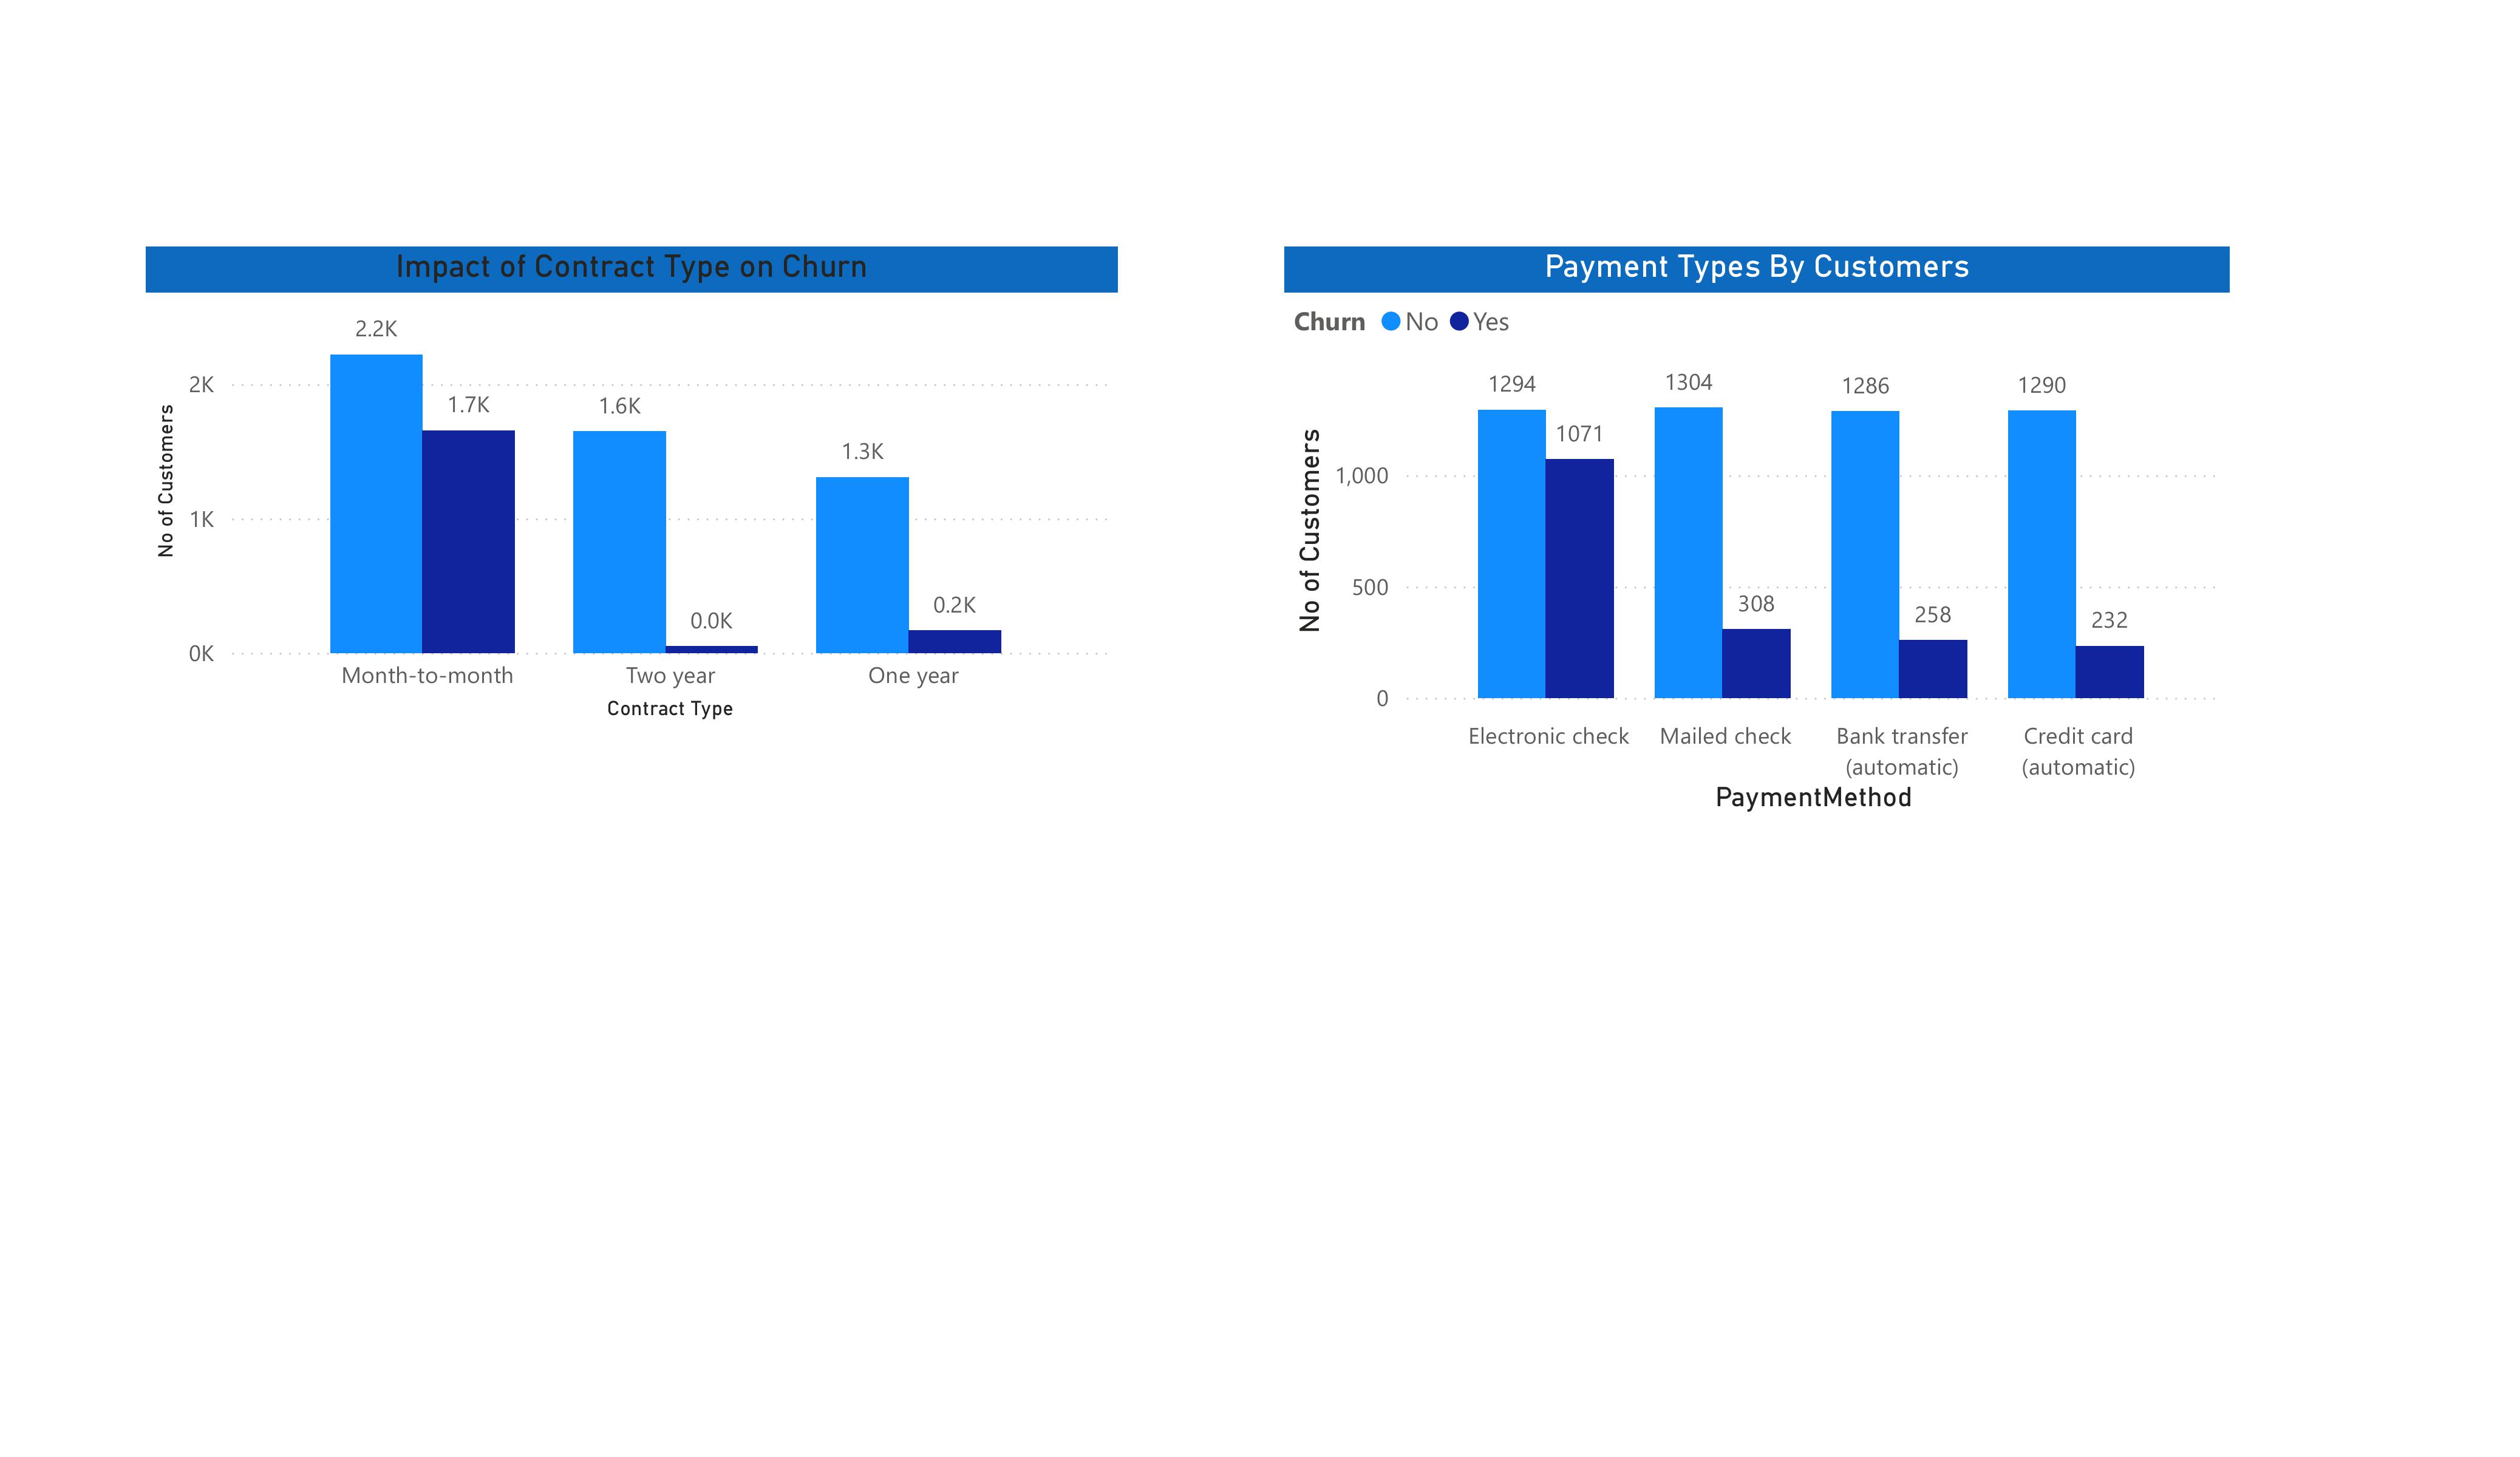

What the dashboard file says about the page in this screenshot:
{"tool":"powerbi","page":{"name":"Task 4","canvas":[1280,720],"ordinal":3},"visuals":[{"type":"clusteredColumnChart","title":"Payment Types By Customers","fields":{"Category":["Telco_Customer_Churn_Dataset  (2).PaymentMethod"],"Series":["Telco_Customer_Churn_Dataset  (2).Churn"],"Y":["CountNonNull(Telco_Customer_Churn_Dataset  (2).Customer ID)"]},"box":[652.9,105.9,498.5,302.9],"z":0},{"type":"clusteredColumnChart","title":"Impact of Contract Type on Churn","fields":{"Series":["Telco_Customer_Churn_Dataset  (2).Churn"],"Category":["Telco_Customer_Churn_Dataset  (2).Contract"],"Y":["CountNonNull(Telco_Customer_Churn_Dataset  (2).Customer ID)"]},"box":[52.9,105.9,511.8,254.4],"z":1000}]}

Visuals, with their boxes on the page's 1280x720 design canvas (x1, y1, x2, y2). These are canvas units, not pixel positions in the 2520x1457 screenshot, which may show the page scaled, cropped or inside an application window:
"Payment Types By Customers" clusteredColumnChart: (653,106,1151,409)
"Impact of Contract Type on Churn" clusteredColumnChart: (53,106,565,360)
